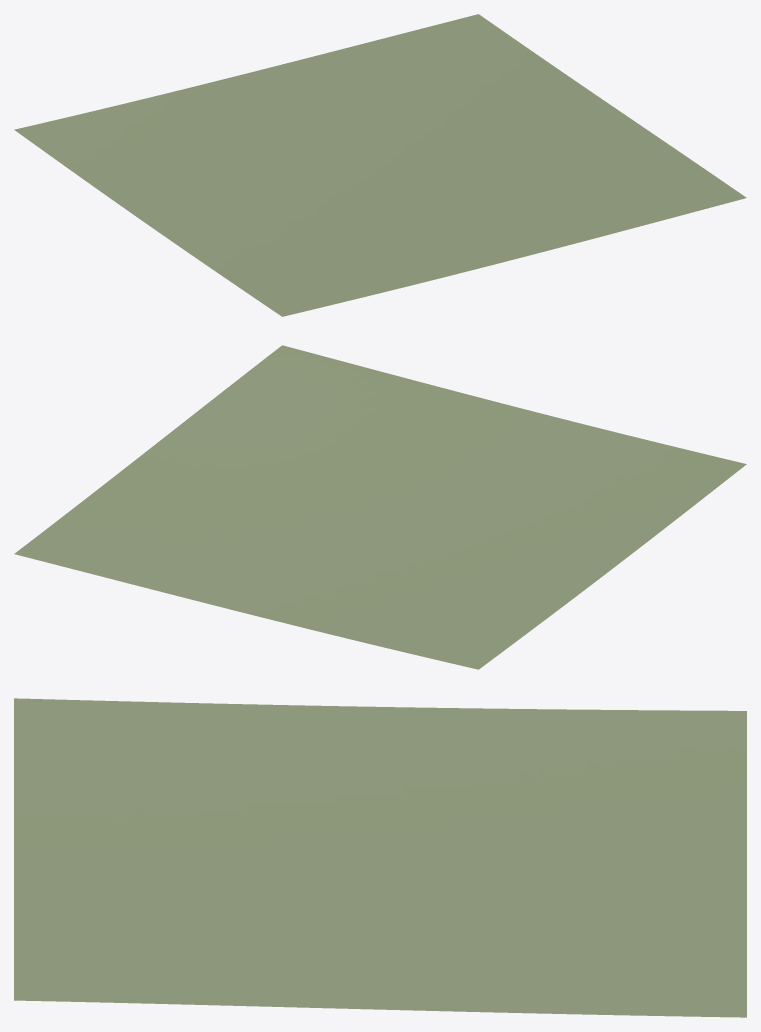
File: expanse-1-12.glb
3 views of the same model, one above another, from view 1: azimuth 30°, elevation 25°; view 2: azimuth 150°, elevation 25°; view 3: azimuth 270°, elevation 25° (orthographic). The views are drawn at different scales.
Parts seen in each view (by area): view 1: expanse-1-12; view 2: expanse-1-12; view 3: expanse-1-12.
Part boxes in pixels (box(x1,y1,x2,y2)): expanse-1-12: box(14, 14, 746, 316); expanse-1-12: box(14, 345, 746, 669); expanse-1-12: box(14, 698, 746, 1017).
Bounding box in the file's own units: 256 × 8.26 × 256.
